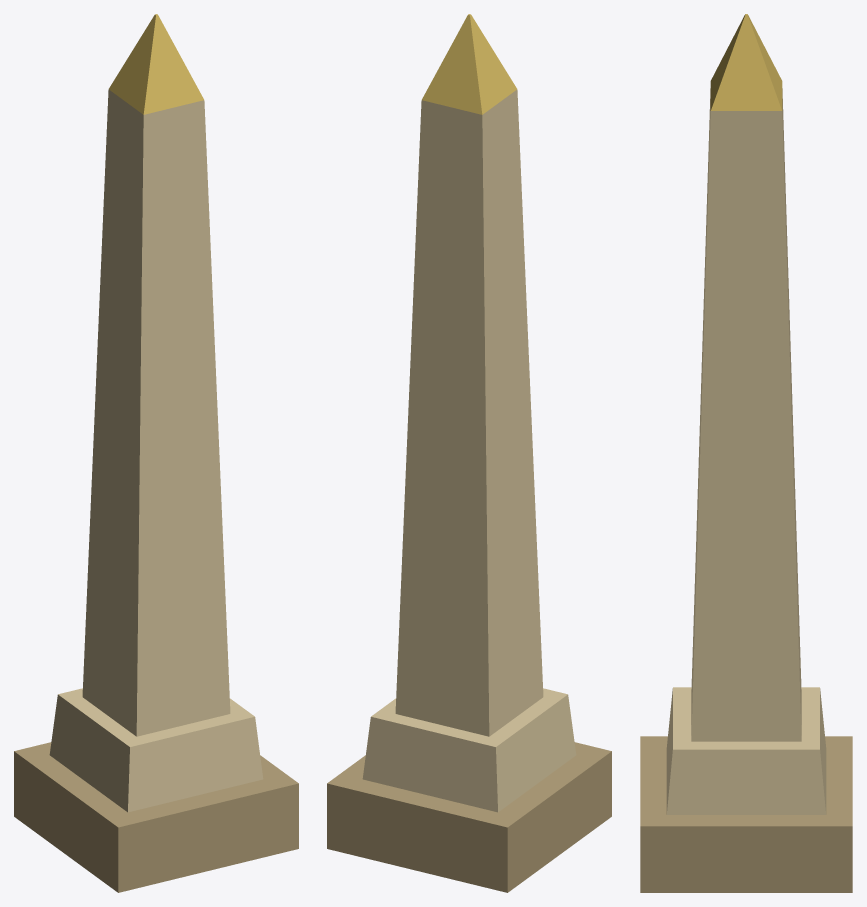
The model's file is luxor_obelisk.glb.
The picture shows the model from 3 angles, left to right: view 1: azimuth 30°, elevation 25°; view 2: azimuth 150°, elevation 25°; view 3: azimuth 270°, elevation 25°; orthographic projection.
Parts seen in each view (by area): view 1: Luxor_Obelisk; view 2: Luxor_Obelisk; view 3: Luxor_Obelisk.
Part boxes in pixels (x1,y1,x2,y2): Luxor_Obelisk: (14,14,298,892); Luxor_Obelisk: (327,14,611,892); Luxor_Obelisk: (640,14,852,892).
Size of the model in its own units: 10.4 by 45 by 10.4.
